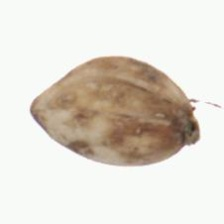L1: (171, 98, 202, 148), (28, 91, 53, 126)
L2: (29, 54, 201, 168)
